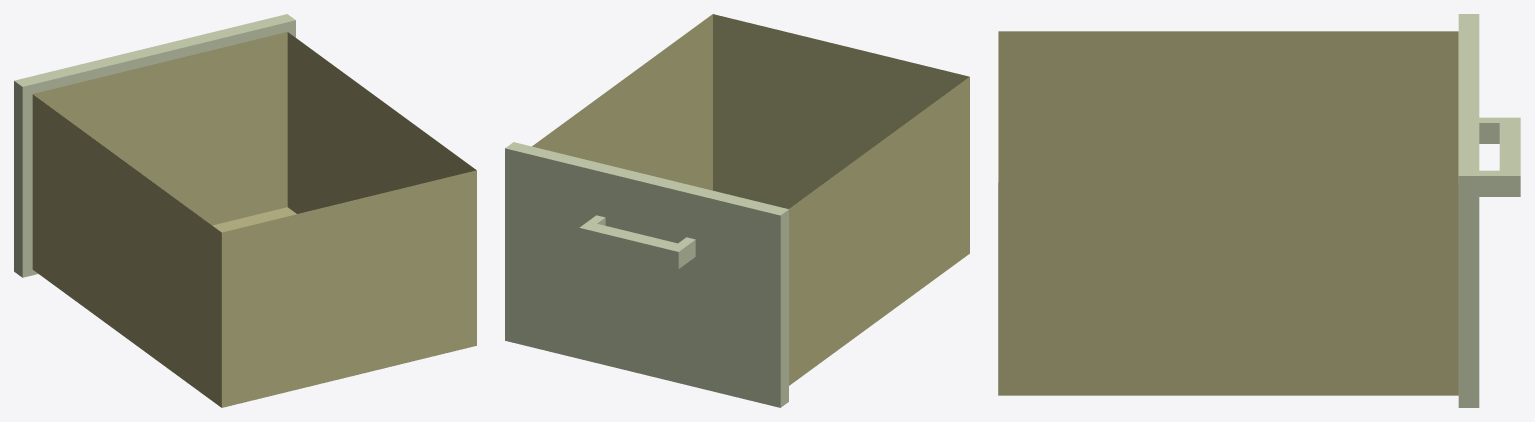
The model's file is cajon.obj.
The picture shows the model from 3 angles, left to right: view 1: azimuth 30°, elevation 25°; view 2: azimuth 150°, elevation 25°; view 3: azimuth 270°, elevation 25°; orthographic projection. The views are drawn at different scales.
Visible parts, largest first — view 1: CajonIzqInf; view 2: CajonIzqInf; view 3: CajonIzqInf.
Boxes of the visible parts, x1=… form: CajonIzqInf: x1=14, y1=14, x2=476, y2=407; CajonIzqInf: x1=505, y1=14, x2=969, y2=407; CajonIzqInf: x1=998, y1=14, x2=1520, y2=407.
Bounding box in the file's own units: 1.88 × 1.25 × 2.55.
3 materials, 3 textured.
